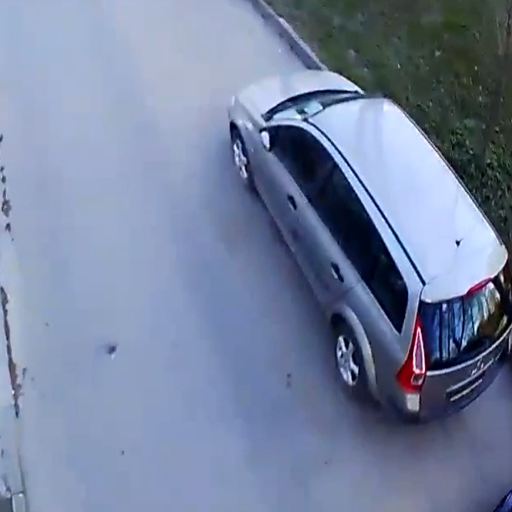Car: (226, 69, 509, 420)
